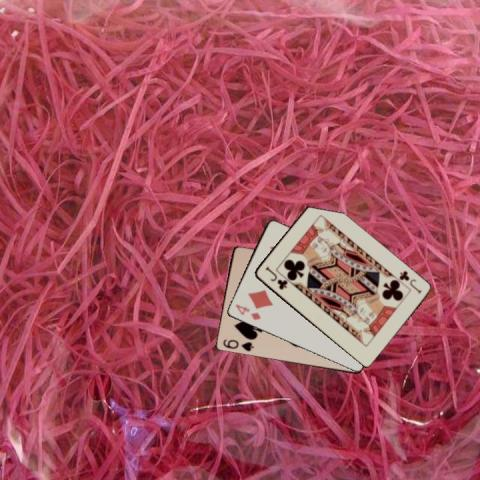4d: (232, 301, 262, 322)
6s: (220, 336, 255, 353)
Jc: (396, 267, 423, 295), (261, 264, 288, 291)
